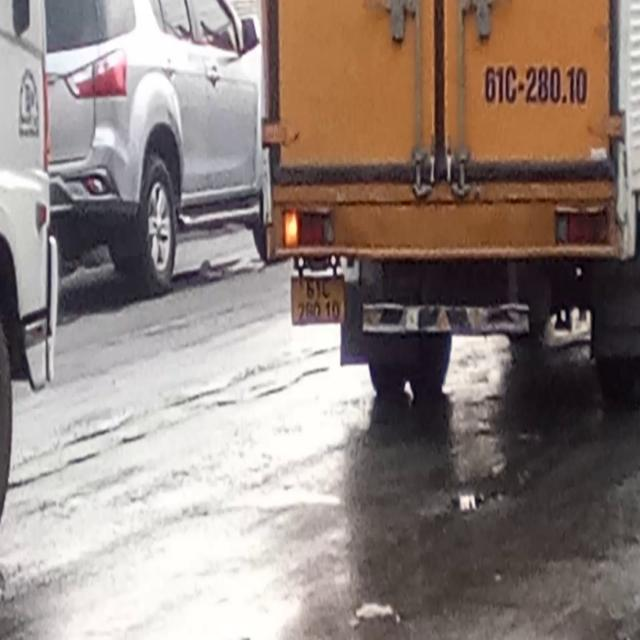bien_vang: (287, 274, 349, 328)
